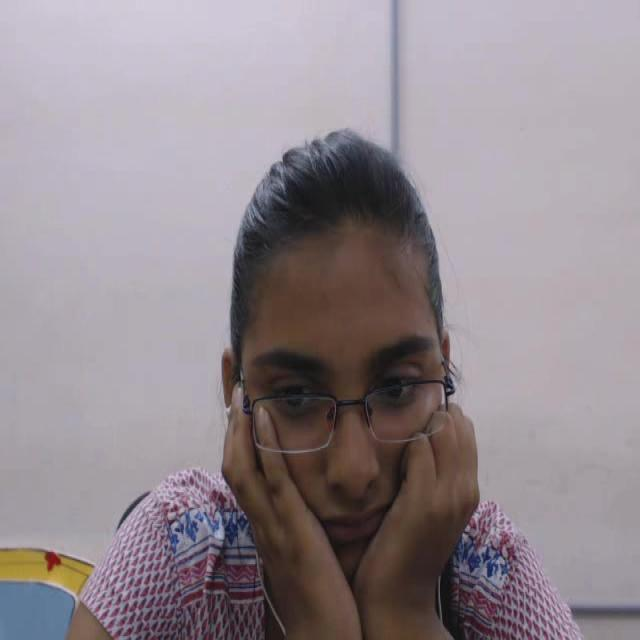Bored: (198, 87, 507, 613)
